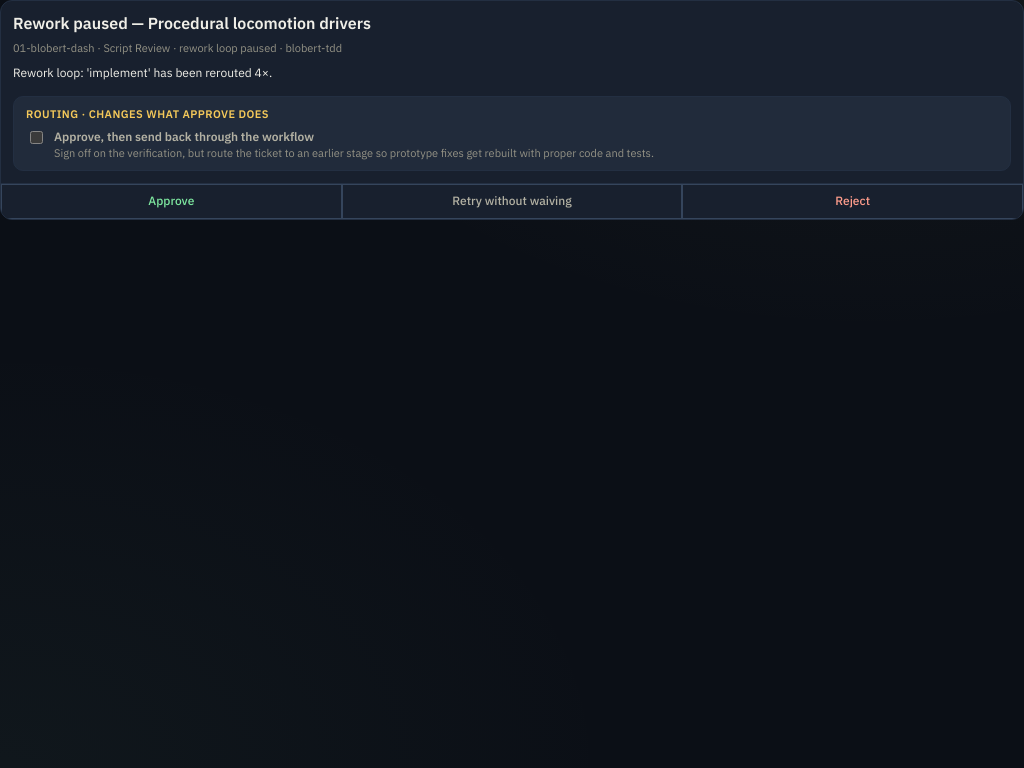
Test: ApprovalCard rework pause › Escape on the waive modal returns focus to Approve
Click the button "Approve": x=171, y=201 [1,184,342,219]
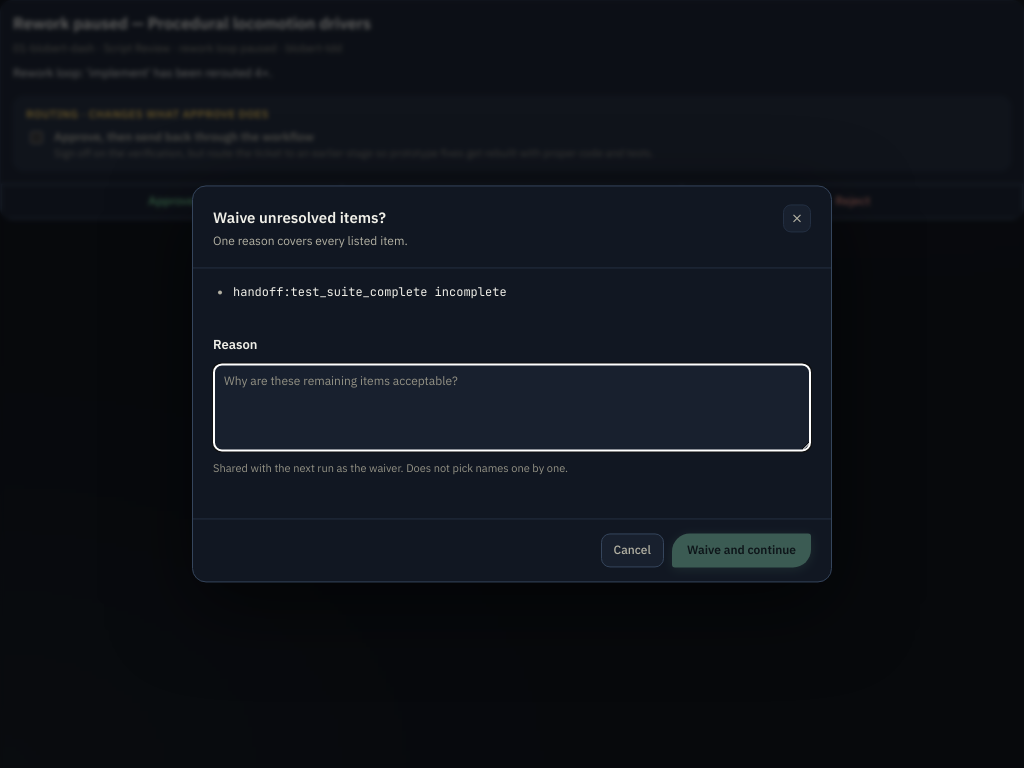
Expected: the dialog "Waive unresolved items?" is shown, [192,185,832,582]
Press Escape
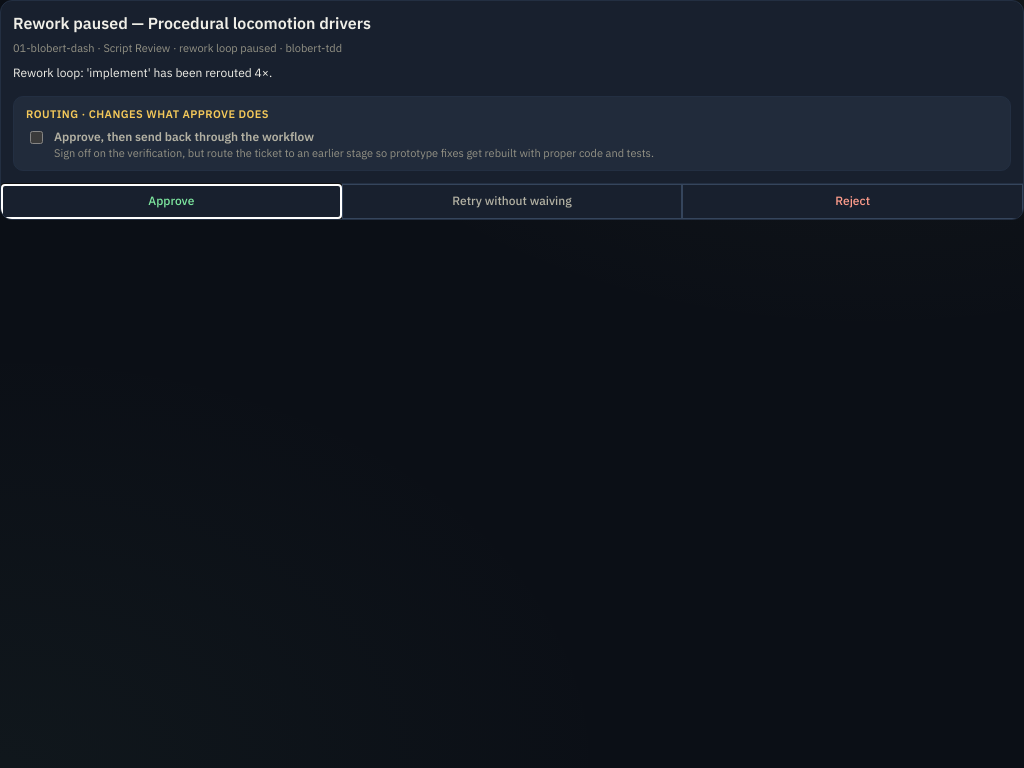
Expected: the heading "Waive unresolved items?" is gone
